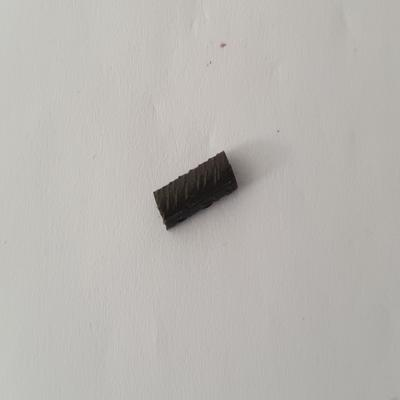plastic: (146, 147, 240, 235)
